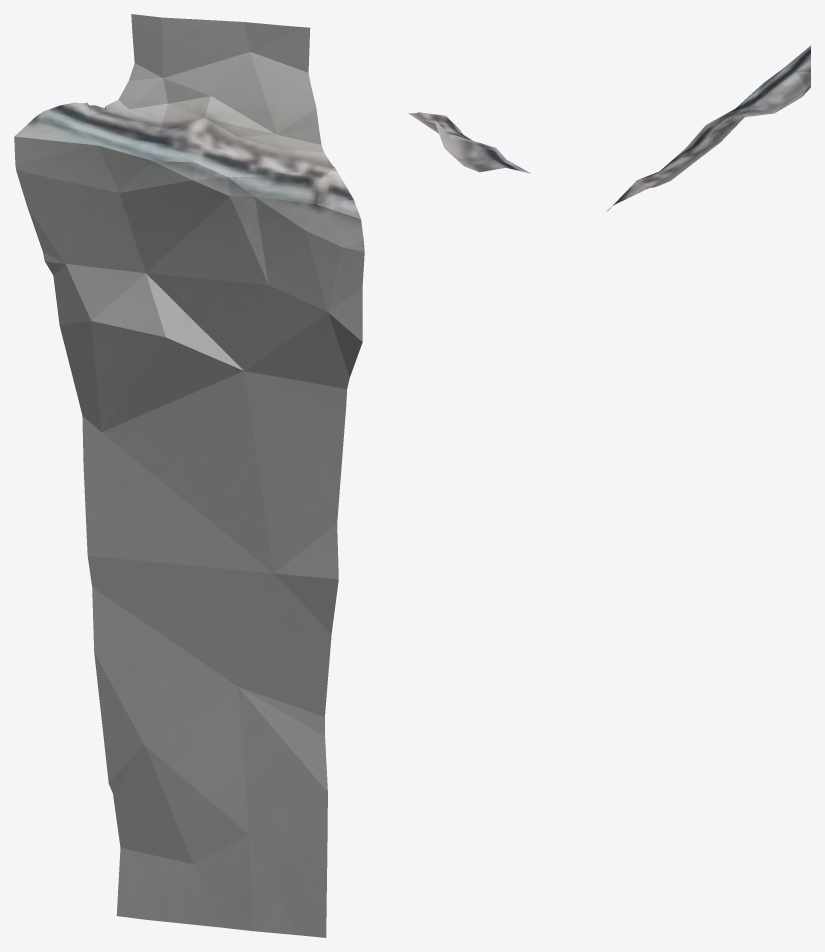
The picture shows the model from 3 angles, left to right: view 1: azimuth 30°, elevation 25°; view 2: azimuth 150°, elevation 25°; view 3: azimuth 270°, elevation 25°; orthographic projection. The views are drawn at different scales.
Bounding box in the file's own units: 0.2313 × 0.8374 × 0.1916.
Materials: 1 (1 with a texture image).
